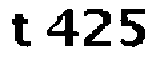2: (81, 5, 114, 50)
4: (44, 6, 80, 51)
5: (116, 5, 150, 50)
t: (7, 13, 33, 53)
